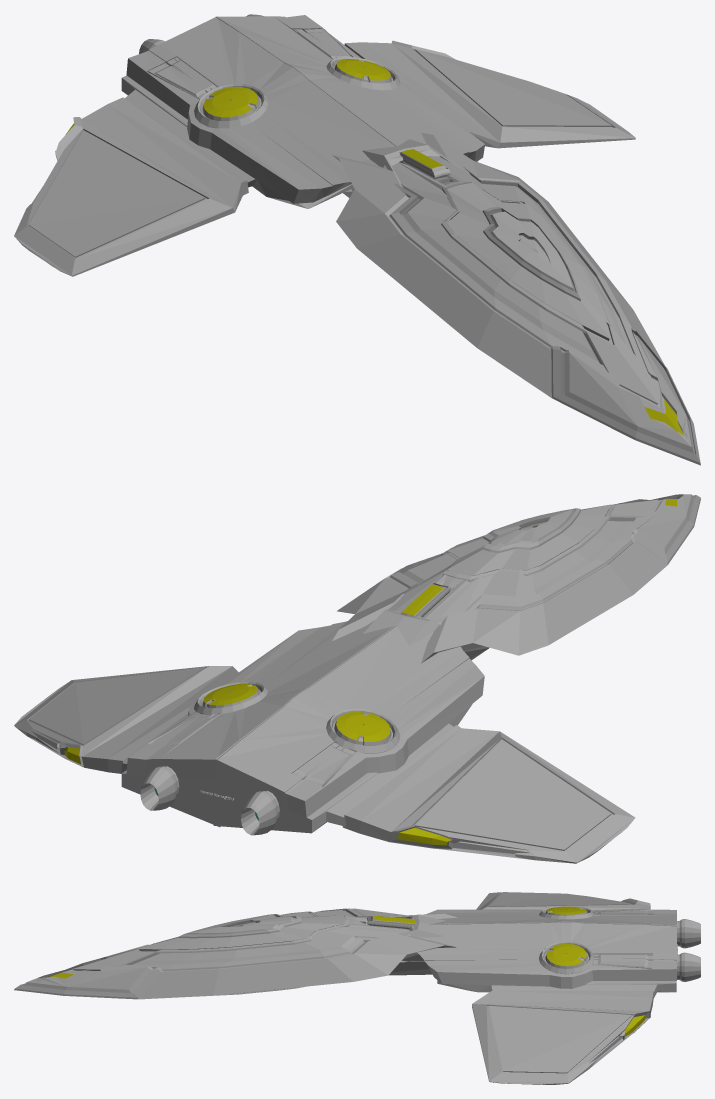
The model's file is spaceship.obj.
The picture shows the model from 3 angles, top to bottom: view 1: azimuth 30°, elevation 25°; view 2: azimuth 150°, elevation 25°; view 3: azimuth 270°, elevation 25°; orthographic projection. The views are drawn at different scales.
Parts seen in each view (by area): view 1: mesh01, justice__1; view 2: mesh01, justice__1, justice_usemtl_1; view 3: mesh01, justice__1, justice_usemtl_1.
Boxes of the visible parts, x1,y1,x2,y2 form: mesh01: [14, 15, 700, 465]; justice__1: [65, 59, 683, 435]; mesh01: [14, 494, 700, 863]; justice__1: [64, 499, 677, 845]; justice_usemtl_1: [140, 766, 279, 835]; mesh01: [14, 892, 677, 1084]; justice__1: [49, 906, 645, 1036]; justice_usemtl_1: [676, 919, 700, 981].
Size of the model in its own units: 0.7683 by 0.1481 by 1.17.
